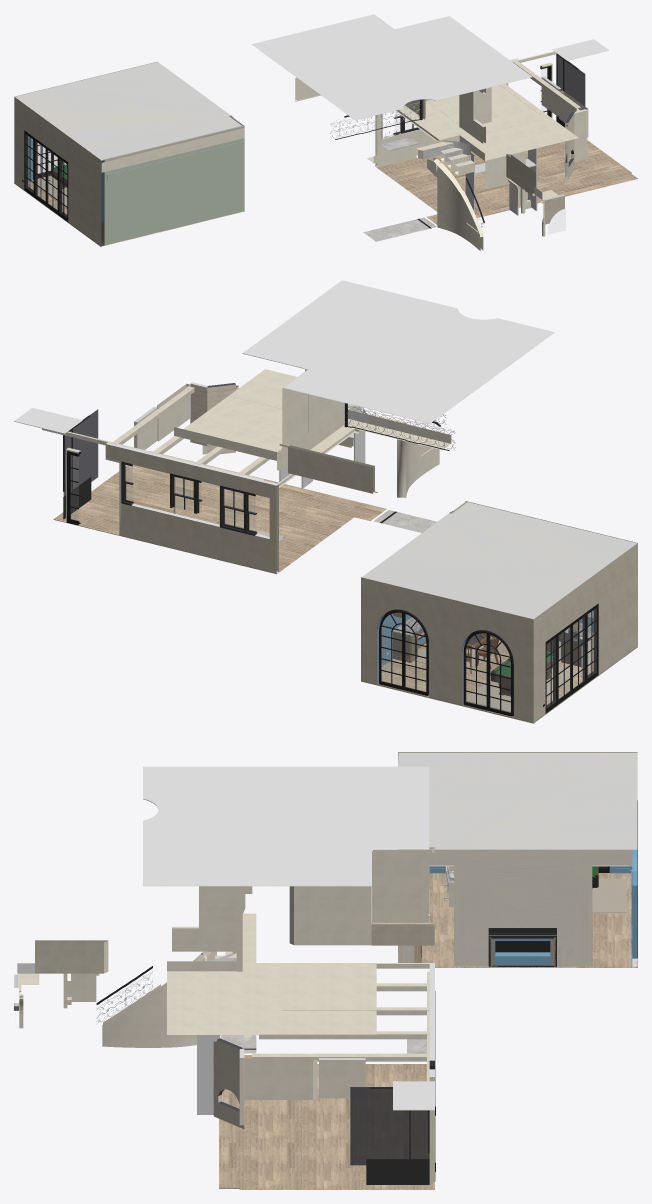
File: game-room-78f48360827a.glb
3 views of the same model, one above another, from view 1: azimuth 30°, elevation 25°; view 2: azimuth 150°, elevation 25°; view 3: azimuth 270°, elevation 25° (orthographic). The views are drawn at different scales.
Visible parts, largest first — view 1: game-room-look-9d91b47435c6fb33, game-room-4a969f5cc1ae3dfe, game-room-30c5953c9ad73e5d, game-room-look-3b0077416469e01b, game-room-look-2575515a05775d9e, game-room-039192b0560cfac3, game-room-50d54560d247b537, game-room-look-8c6a7019fd0063e7, game-room-2575515a05775d9e, game-room-f4800b31bfeb29e4, game-room-look-bfb9fa537cd11d1d, game-room-look-cbd4bf73d9724a66 (+20 smaller); view 2: game-room-look-9d91b47435c6fb33, game-room-4a969f5cc1ae3dfe, game-room-look-3b0077416469e01b, game-room-969b861f9850351e, game-room-look-bfb9fa537cd11d1d, game-room-039192b0560cfac3, game-room-look-2575515a05775d9e, game-room-50d54560d247b537, game-room-3b0077416469e01b, game-room-look-245f595ae2832e16, game-room-ebdc05650cf31826, game-room-ca241f91fd698c40 (+23 smaller); view 3: game-room-look-9d91b47435c6fb33, game-room-4a969f5cc1ae3dfe, game-room-look-3b0077416469e01b, game-room-3e6709f91b43c3bf, game-room-look-2575515a05775d9e, game-room-50d54560d247b537, game-room-55ff1dfd7b659ec1, game-room-look-69af8f587252f9fa, game-room-3b0077416469e01b, game-room-look-cbd4bf73d9724a66, game-room-look-32b959c9aa406288, game-room-look-8c6a7019fd0063e7 (+22 smaller).
Part boxes in pixels (x1=…): game-room-look-9d91b47435c6fb33: x1=251, y1=14, x2=531, y2=120; game-room-4a969f5cc1ae3dfe: x1=14, y1=62, x2=242, y2=160; game-room-30c5953c9ad73e5d: x1=104, y1=126, x2=244, y2=245; game-room-look-3b0077416469e01b: x1=375, y1=140, x2=637, y2=224; game-room-look-2575515a05775d9e: x1=367, y1=84, x2=578, y2=163; game-room-039192b0560cfac3: x1=14, y1=97, x2=104, y2=246; game-room-50d54560d247b537: x1=14, y1=61, x2=243, y2=160; game-room-look-8c6a7019fd0063e7: x1=427, y1=157, x2=483, y2=250; game-room-2575515a05775d9e: x1=101, y1=128, x2=244, y2=172; game-room-f4800b31bfeb29e4: x1=24, y1=130, x2=68, y2=221; game-room-look-bfb9fa537cd11d1d: x1=375, y1=58, x2=518, y2=167; game-room-look-cbd4bf73d9724a66: x1=557, y1=55, x2=585, y2=106; game-room-look-9d91b47435c6fb33: x1=242, y1=280, x2=554, y2=423; game-room-4a969f5cc1ae3dfe: x1=361, y1=502, x2=637, y2=619; game-room-look-3b0077416469e01b: x1=53, y1=451, x2=386, y2=574; game-room-969b861f9850351e: x1=361, y1=578, x2=529, y2=721; game-room-look-bfb9fa537cd11d1d: x1=105, y1=442, x2=278, y2=573; game-room-039192b0560cfac3: x1=529, y1=544, x2=637, y2=722; game-room-look-2575515a05775d9e: x1=174, y1=369, x2=451, y2=460; game-room-50d54560d247b537: x1=361, y1=502, x2=637, y2=619; game-room-3b0077416469e01b: x1=361, y1=636, x2=637, y2=722; game-room-look-245f595ae2832e16: x1=288, y1=445, x2=374, y2=493; game-room-ebdc05650cf31826: x1=487, y1=632, x2=512, y2=716; game-room-ca241f91fd698c40: x1=403, y1=612, x2=427, y2=695; game-room-look-9d91b47435c6fb33: x1=143, y1=766, x2=429, y2=886; game-room-4a969f5cc1ae3dfe: x1=398, y1=752, x2=637, y2=849; game-room-look-3b0077416469e01b: x1=219, y1=1055, x2=434, y2=1189; game-room-3e6709f91b43c3bf: x1=398, y1=849, x2=632, y2=966; game-room-look-2575515a05775d9e: x1=167, y1=913, x2=376, y2=1034; game-room-50d54560d247b537: x1=398, y1=752, x2=637, y2=849; game-room-55ff1dfd7b659ec1: x1=398, y1=849, x2=631, y2=967; game-room-look-69af8f587252f9fa: x1=289, y1=886, x2=371, y2=945; game-room-3b0077416469e01b: x1=398, y1=873, x2=637, y2=967; game-room-look-cbd4bf73d9724a66: x1=350, y1=1087, x2=429, y2=1165; game-room-look-32b959c9aa406288: x1=372, y1=849, x2=429, y2=922; game-room-look-8c6a7019fd0063e7: x1=102, y1=951, x2=216, y2=1047.
Size of the model in its own units: 21.68 by 6.36 by 16.78.
Materials: 68 (18 with a texture image).
